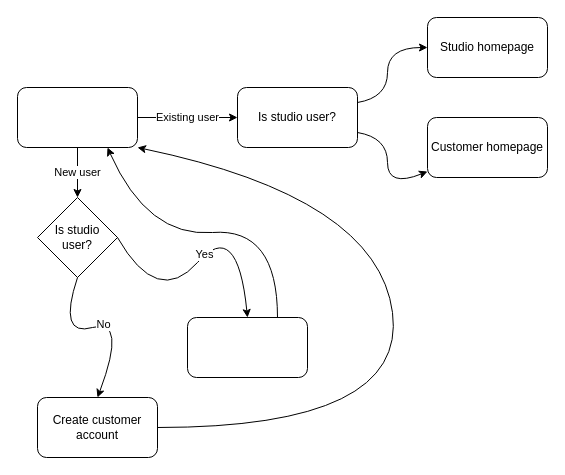
Image size: 565x475. Some labels were removed from this diagram. The shapes that lost their labels are listed below. From the top down, each one's centre as x and y in pixels, then its label:
the point at 77,117: Login page
the point at 247,347: Create studio account
